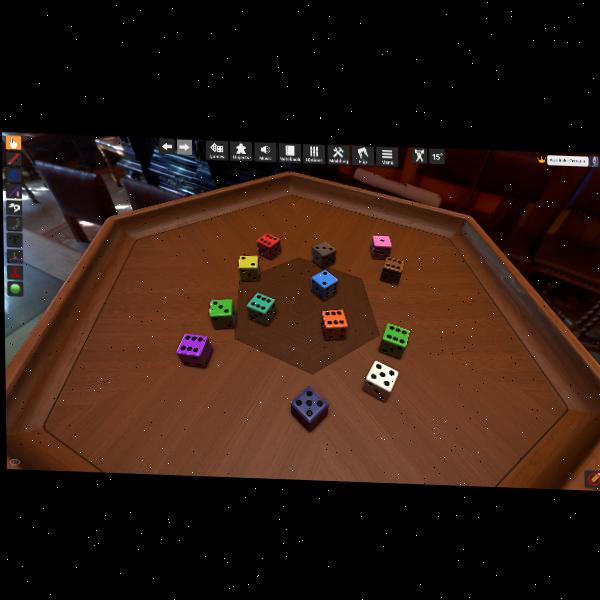d6: (363, 359, 400, 401), (298, 385, 330, 429), (176, 332, 212, 368), (246, 291, 277, 326), (379, 321, 409, 357), (208, 298, 235, 330), (310, 269, 336, 301), (321, 308, 346, 340), (379, 255, 405, 285), (312, 242, 337, 271), (257, 233, 280, 261), (238, 254, 260, 282), (371, 234, 392, 260)
